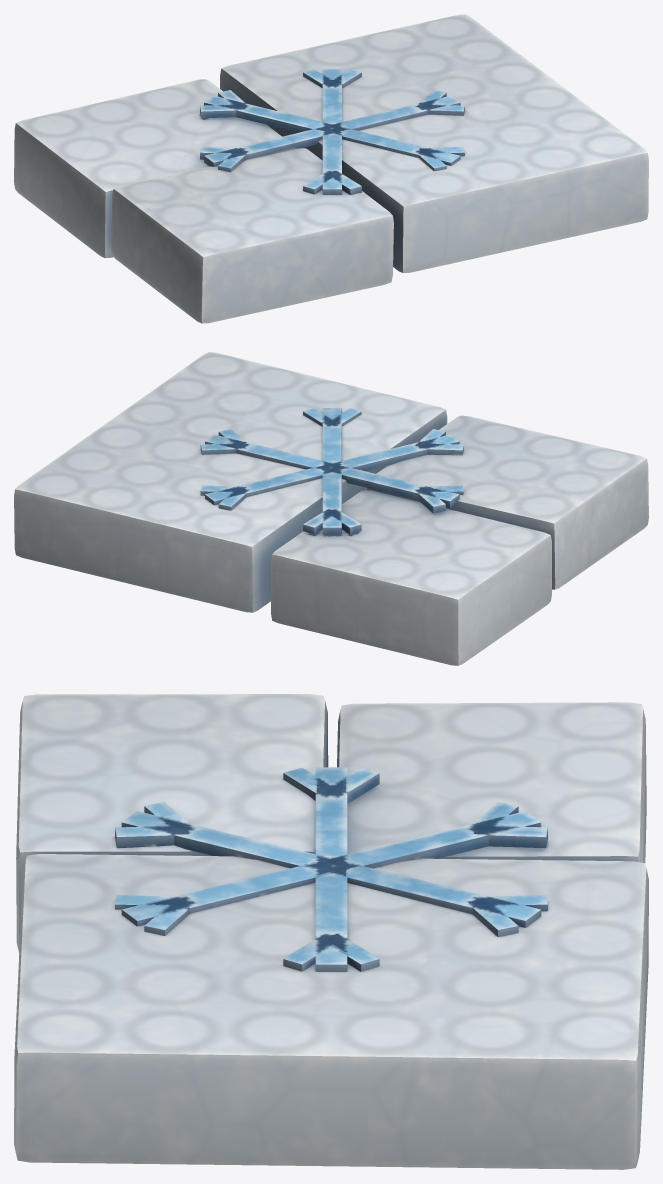
Rendered from Glace_Dalle.fbx.
3 views of the same model, one above another, from view 1: azimuth 30°, elevation 25°; view 2: azimuth 150°, elevation 25°; view 3: azimuth 270°, elevation 25° (orthographic). The views are drawn at different scales.
Visible parts, largest first — view 1: Glace_Dalle; view 2: Glace_Dalle; view 3: Glace_Dalle.
Boxes of the visible parts, x1=… form: Glace_Dalle: x1=14, y1=14, x2=648, y2=323; Glace_Dalle: x1=14, y1=352, x2=648, y2=665; Glace_Dalle: x1=14, y1=694, x2=648, y2=1169.
Bounding box in the file's own units: 808 × 137 × 598.
Materials: 1 (1 with a texture image).
